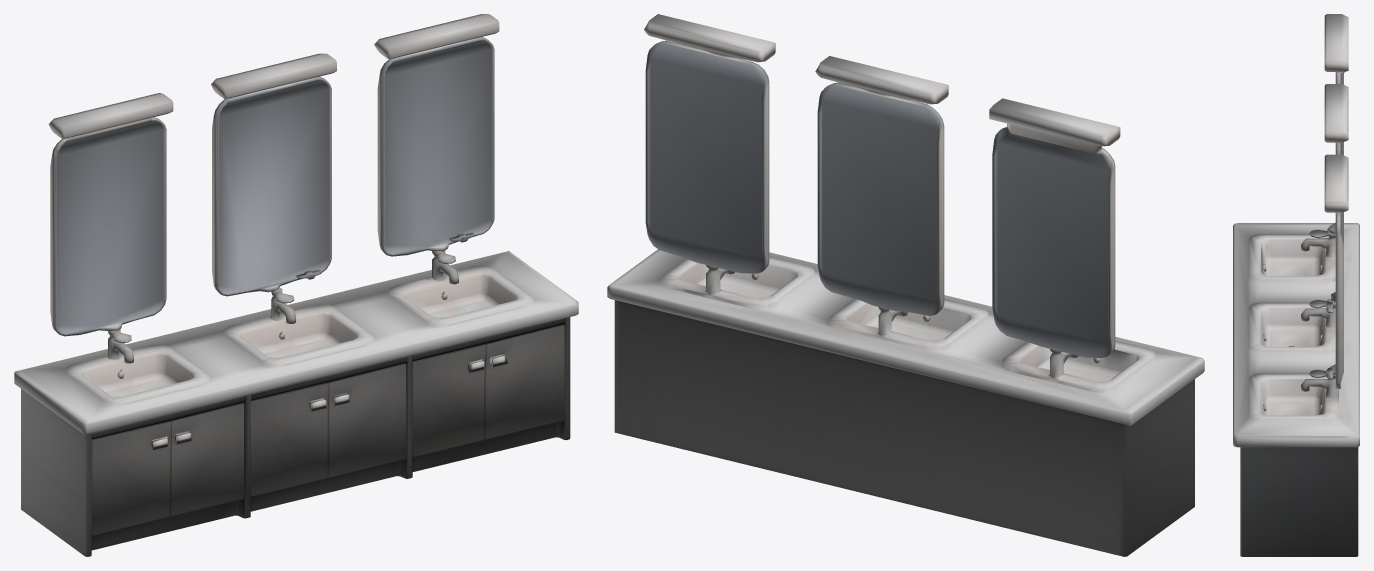
The model's file is sinks.glb.
3 renders of one model, left to right at view 1: azimuth 30°, elevation 25°; view 2: azimuth 150°, elevation 25°; view 3: azimuth 270°, elevation 25°, orthographic. The views are drawn at different scales.
Visible parts, largest first — view 1: material; view 2: material; view 3: material.
Boxes of the visible parts, x1,y1,x2,y2 form: material: (14,14,578,556); material: (607,14,1204,556); material: (1233,14,1359,556).
Size of the model in its own units: 1.9 by 1.42 by 0.4746.
1 material, 1 textured.
